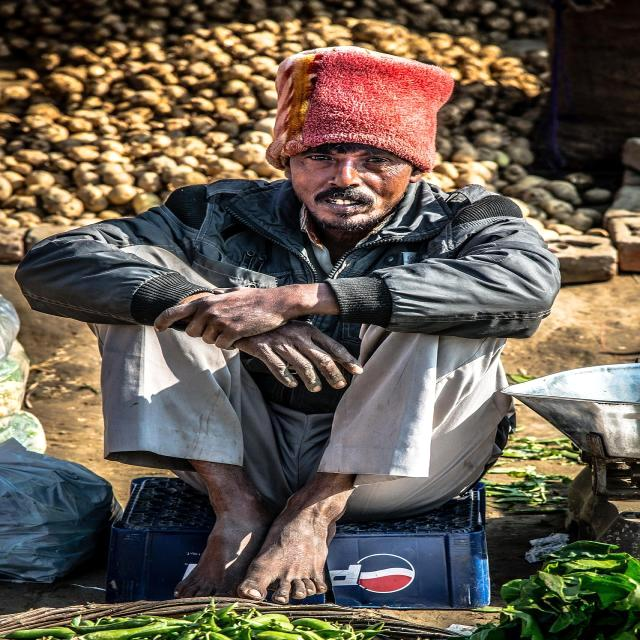no_hard_hat: (267, 47, 453, 176)
person: (16, 142, 558, 599)
